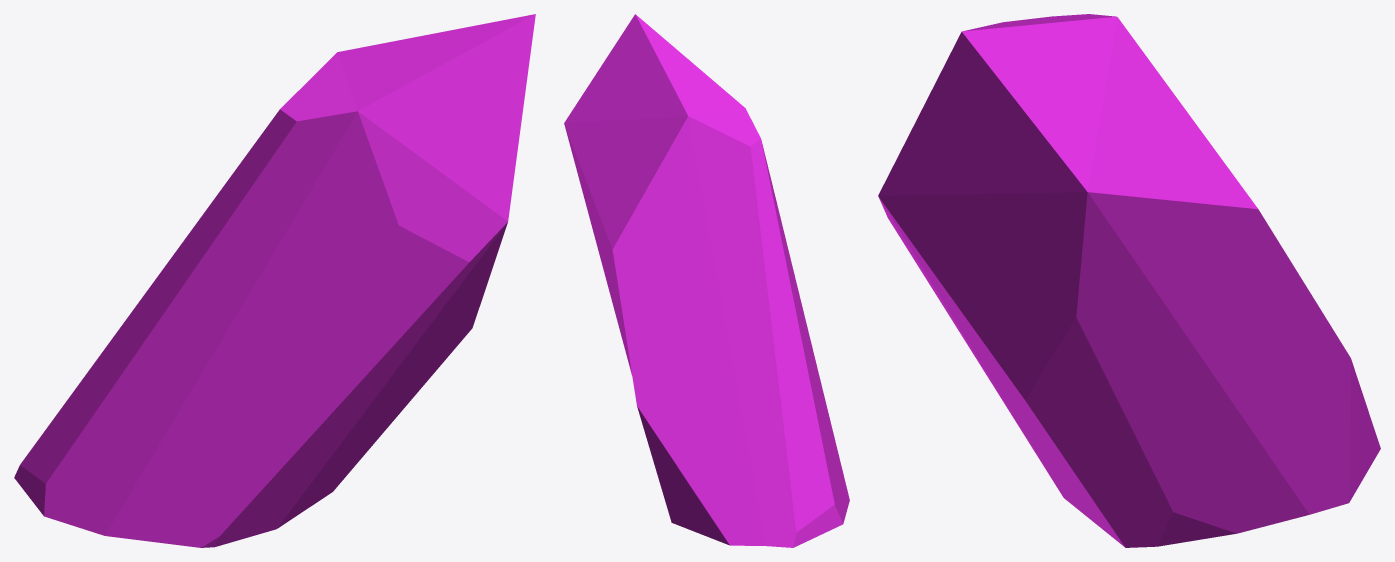
The model's file is Boss Crystal3.fbx.
The picture shows the model from 3 angles, left to right: view 1: azimuth 30°, elevation 25°; view 2: azimuth 150°, elevation 25°; view 3: azimuth 270°, elevation 25°; orthographic projection. The views are drawn at different scales.
Visible parts, largest first — view 1: boss crystal.003; view 2: boss crystal.003; view 3: boss crystal.003.
Part boxes in pixels (x1,y1,x2,y2): boss crystal.003: (14, 14, 535, 547); boss crystal.003: (564, 14, 849, 547); boss crystal.003: (878, 14, 1380, 547).
Size of the model in its own units: 1.22 by 1.37 by 1.05.
